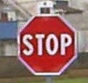stop: (16, 11, 78, 76)
